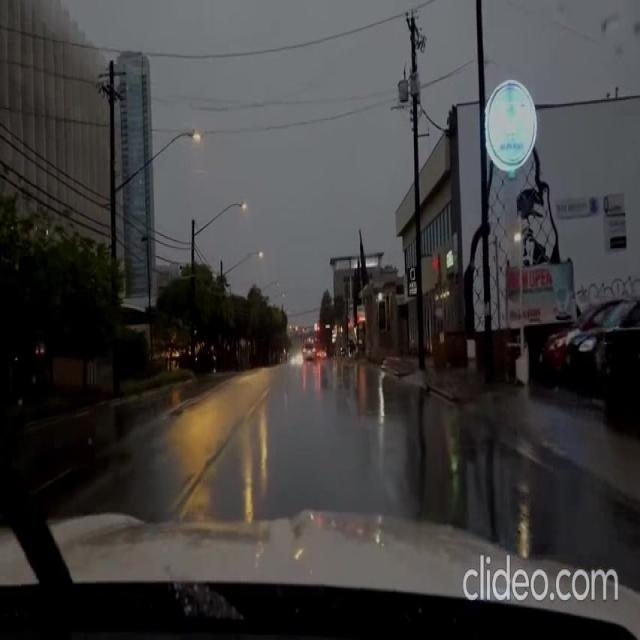Car: (300, 338, 316, 362)
